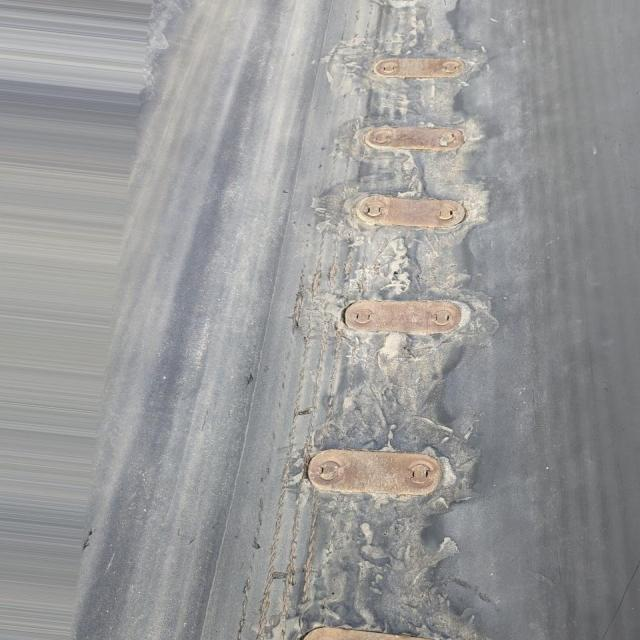patch work: (259, 0, 507, 640)
